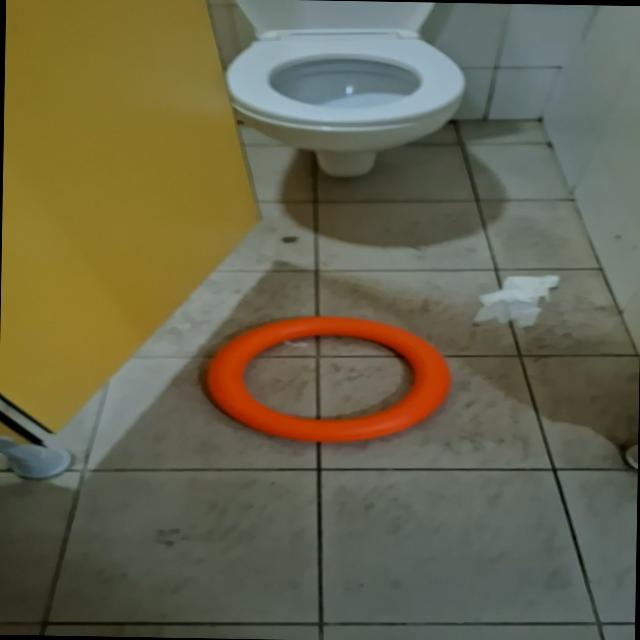note: (202, 312, 453, 445)
